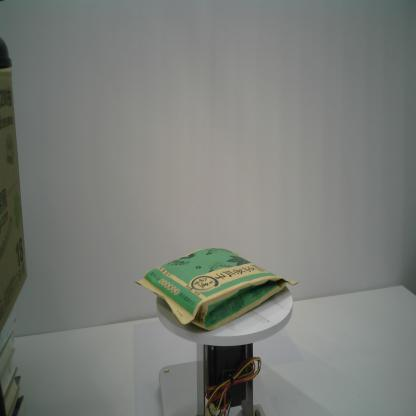Dried Food: (132, 242, 298, 332)
